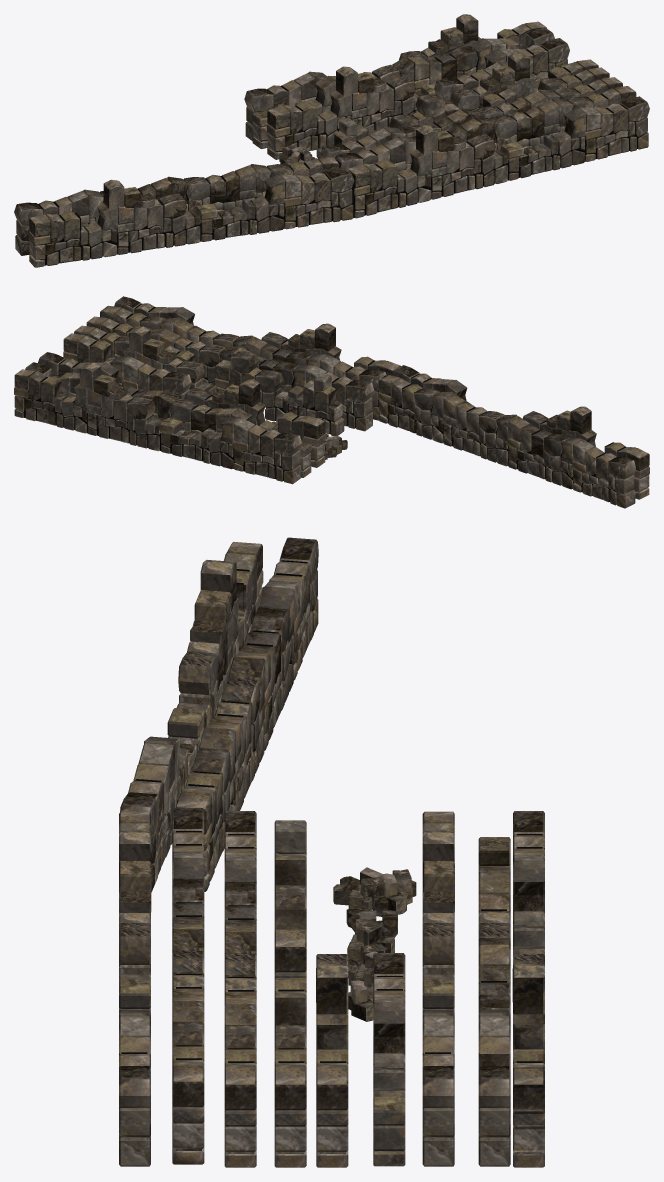
The model's file is SM_RockWall_001.FBX.
3 renders of one model, top to bottom at view 1: azimuth 30°, elevation 25°; view 2: azimuth 150°, elevation 25°; view 3: azimuth 270°, elevation 25°, orthographic. The views are drawn at different scales.
Parts seen in each view (by area): view 1: SM_RockWall_20m_001, SM_RockWall_20m_002, SM_RockWall_2F_10m_001, SM_RockWall_10m_002, SM_RockWall_10m_001, SM_RockWall_5M_001, SM_RockWall_4m_001, SM_RockWall_4m_002, SM_RockWall_5M_002, SM_RockWall_OBJ_006; view 2: SM_RockWall_20m_002, SM_RockWall_2F_10m_001, SM_RockWall_20m_001, SM_RockWall_10m_001, SM_RockWall_4m_001, SM_RockWall_10m_002, SM_RockWall_5M_001, SM_RockWall_5M_002, SM_RockWall_4m_002, SM_RockWall_OBJ_006; view 3: SM_RockWall_20m_002, SM_RockWall_20m_001, SM_RockWall_2F_10m_001, SM_RockWall_10m_001, SM_RockWall_10m_002, SM_RockWall_5M_001, SM_RockWall_5M_002, SM_RockWall_4m_002, SM_RockWall_4m_001, SM_RockWall_OBJ_006, SM_RockWall_OBJ_001, SM_RockWall_OBJ_004 (+1 smaller).
Part boxes in pixels (x1,y1,x2,y2): SM_RockWall_20m_001: [28, 96, 649, 267]; SM_RockWall_20m_002: [14, 86, 636, 255]; SM_RockWall_2F_10m_001: [244, 14, 554, 148]; SM_RockWall_10m_002: [267, 38, 569, 159]; SM_RockWall_10m_001: [320, 77, 622, 158]; SM_RockWall_5M_001: [450, 52, 598, 109]; SM_RockWall_4m_001: [334, 94, 460, 144]; SM_RockWall_4m_002: [483, 67, 609, 107]; SM_RockWall_5M_002: [434, 61, 571, 104]; SM_RockWall_OBJ_006: [279, 145, 315, 165]; SM_RockWall_20m_002: [100, 305, 636, 508]; SM_RockWall_2F_10m_001: [14, 362, 311, 484]; SM_RockWall_20m_001: [114, 296, 649, 499]; SM_RockWall_10m_001: [86, 316, 374, 431]; SM_RockWall_4m_001: [215, 351, 344, 436]; SM_RockWall_10m_002: [38, 352, 325, 467]; SM_RockWall_5M_001: [63, 326, 216, 394]; SM_RockWall_5M_002: [65, 356, 191, 398]; SM_RockWall_4m_002: [74, 325, 194, 361]; SM_RockWall_OBJ_006: [324, 433, 347, 459]; SM_RockWall_20m_002: [172, 537, 318, 1164]; SM_RockWall_20m_001: [119, 542, 263, 1166]; SM_RockWall_2F_10m_001: [478, 811, 544, 1167]; SM_RockWall_10m_001: [224, 811, 256, 1167]; SM_RockWall_10m_002: [422, 811, 454, 1166]; SM_RockWall_5M_001: [316, 954, 348, 1167]; SM_RockWall_5M_002: [373, 953, 405, 1166]; SM_RockWall_4m_002: [274, 978, 306, 1167]; SM_RockWall_4m_001: [274, 820, 306, 978]; SM_RockWall_OBJ_006: [333, 867, 416, 916]; SM_RockWall_OBJ_001: [348, 968, 373, 1021]; SM_RockWall_OBJ_004: [346, 905, 397, 937].
Bounding box in the file's own units: 781 × 89.38 × 258.
